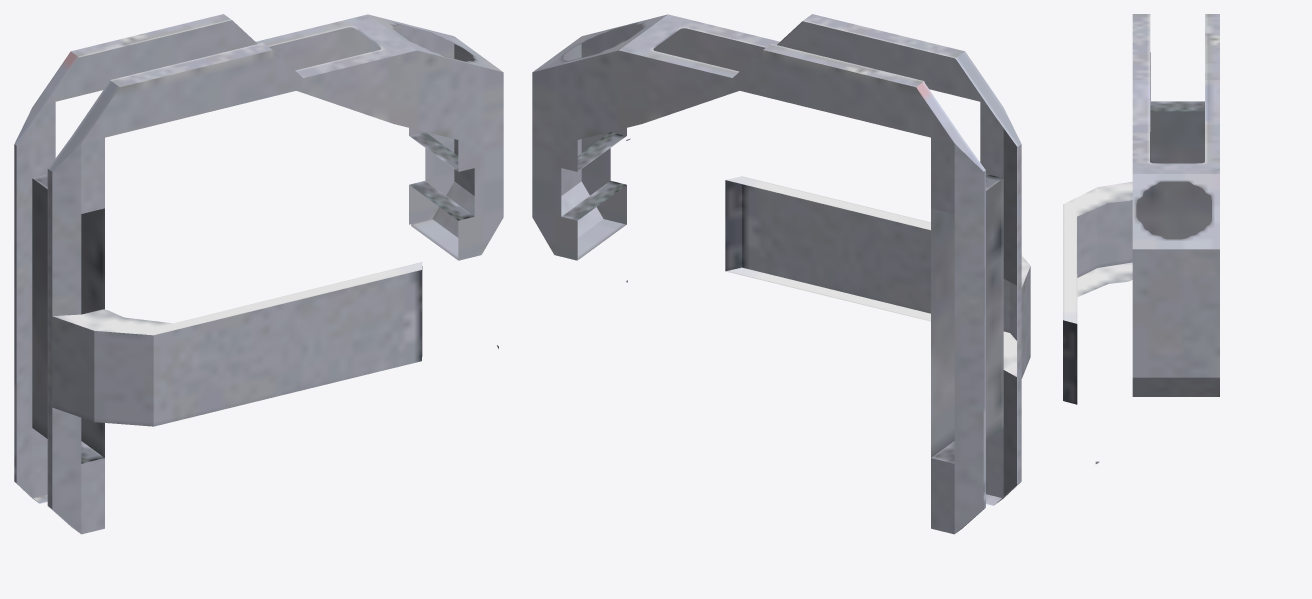
The model's file is eqp_canister_small_s01_l0.fbx.
The picture shows the model from 3 angles, left to right: view 1: azimuth 30°, elevation 25°; view 2: azimuth 150°, elevation 25°; view 3: azimuth 270°, elevation 25°; orthographic projection. The views are drawn at different scales.
Parts seen in each view (by area): view 1: mesh_node; view 2: mesh_node; view 3: mesh_node.
Boxes of the visible parts, x1,y1,x2,y2 form: mesh_node: (14, 14, 503, 534); mesh_node: (532, 14, 1030, 534); mesh_node: (1063, 14, 1219, 463).
Size of the model in its own units: 0.1218 by 0.1253 by 0.0637.
